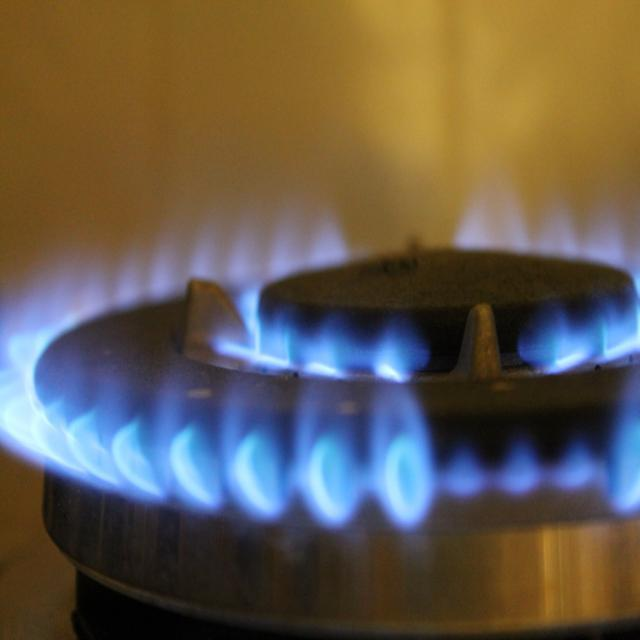Fire: (47, 412, 434, 514), (228, 311, 408, 399)
